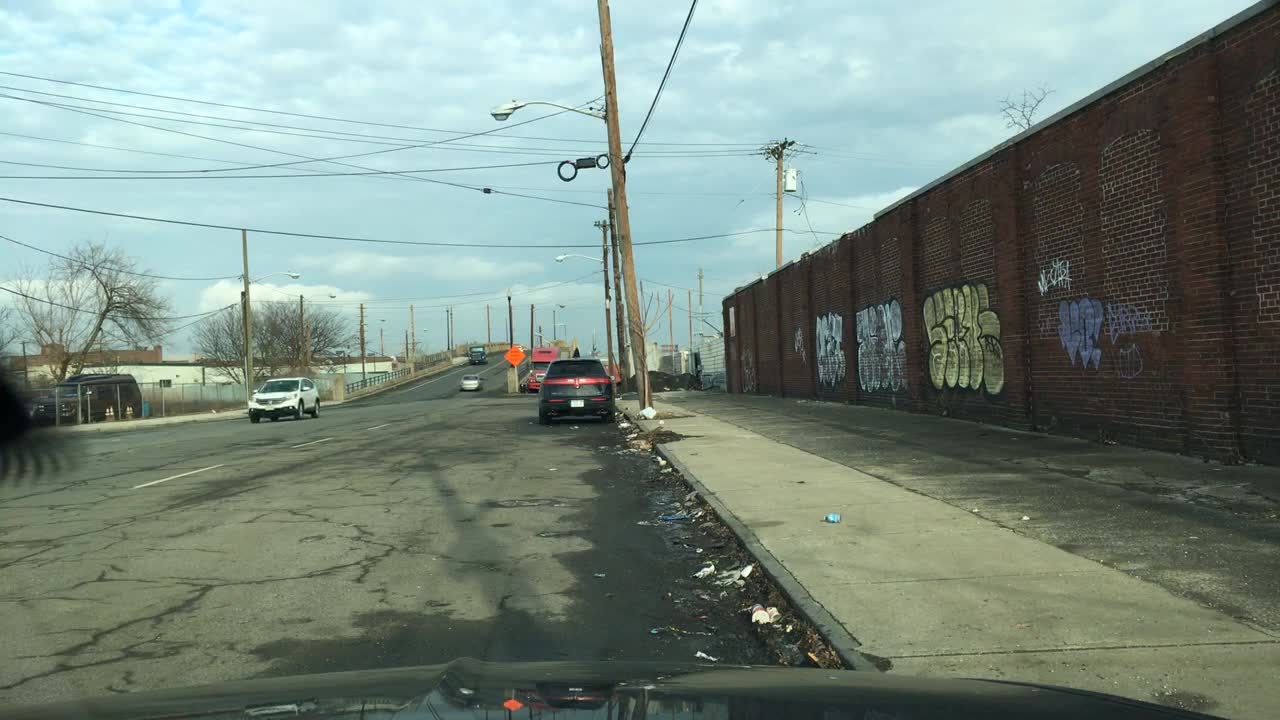car: (27, 371, 144, 425), (537, 355, 616, 423), (245, 374, 321, 422), (520, 366, 546, 395), (455, 373, 483, 390)
traffic sign: (502, 346, 525, 367)
truck: (529, 345, 560, 367), (467, 345, 487, 362)
